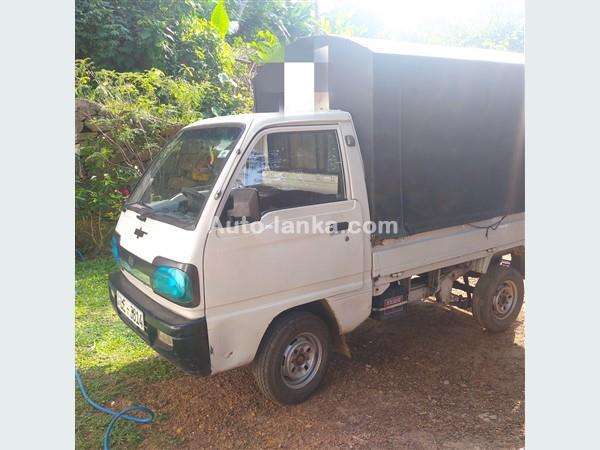truck: (108, 33, 525, 405)
